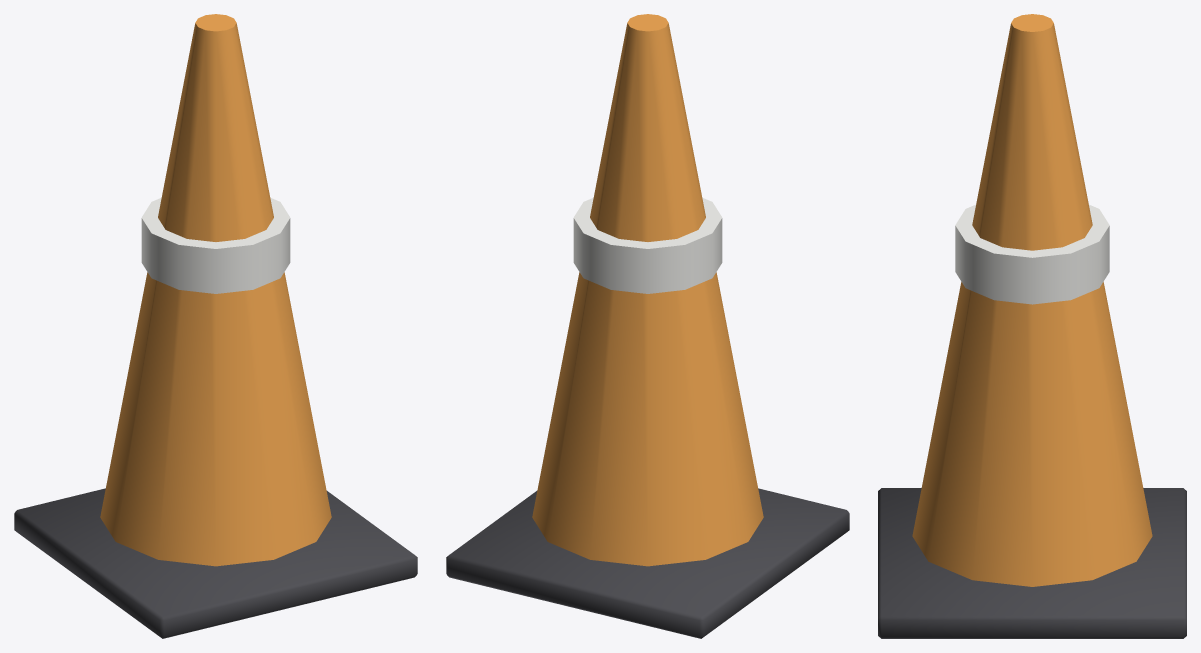
File: TrafficCone.fbx
3 renders of one model, left to right at view 1: azimuth 30°, elevation 25°; view 2: azimuth 150°, elevation 25°; view 3: azimuth 270°, elevation 25°, orthographic. The views are drawn at different scales.
Parts seen in each view (by area): view 1: LOD0; view 2: LOD0; view 3: LOD0.
Part boxes in pixels (left/top/right/bottom): LOD0: left=14, top=14, right=417, bottom=638; LOD0: left=446, top=14, right=849, bottom=638; LOD0: left=878, top=14, right=1186, bottom=638.
Size of what is drawn, in the model's own units: 36 by 71 by 36.
